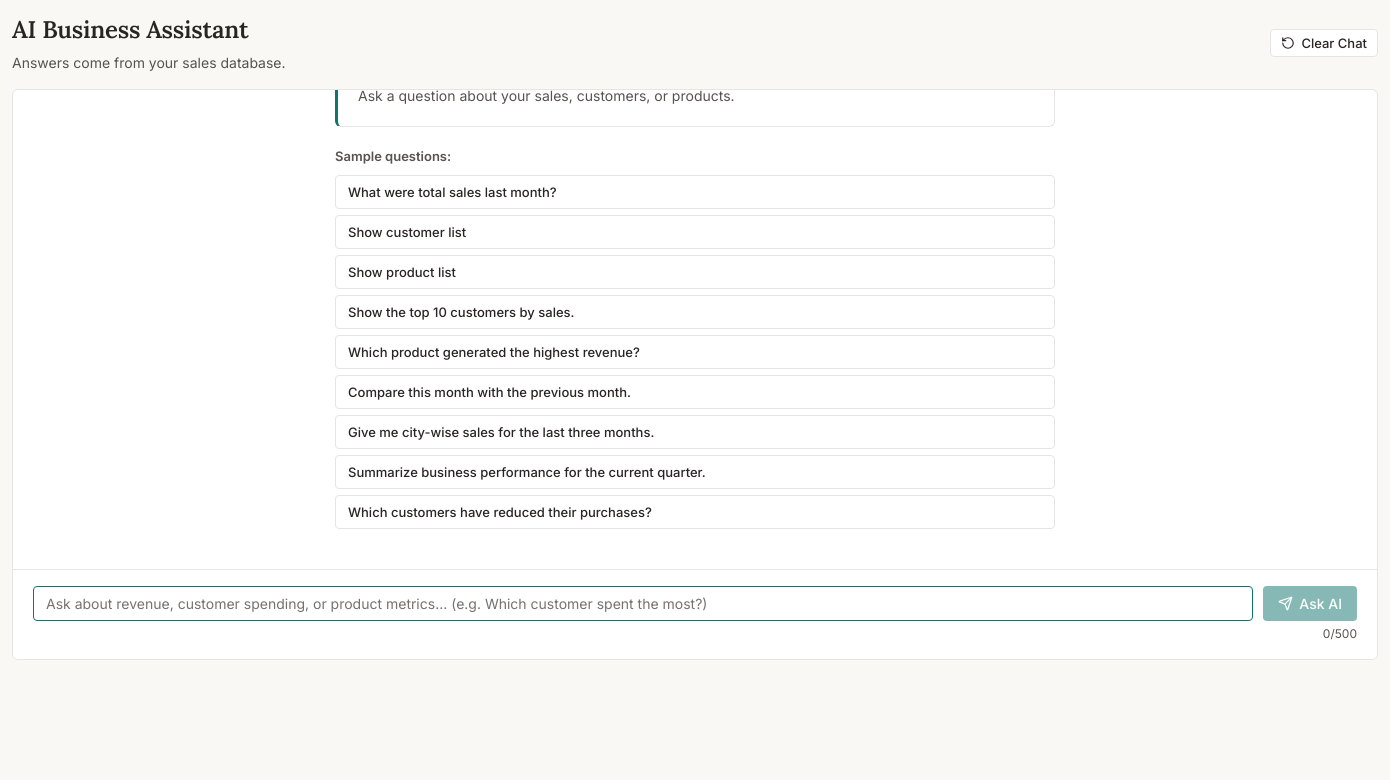
it: AIAssistant Page Component › displays clear configuration notice banner when AI is unconfigured (AI_NOT_CONFIGURED)
(page scrolled)
Replace the text in the field with placeholder "Ask about revenue" with "Summarize business performance for the current quarter.": {"x": 643, "y": 604} [33,586,1253,621]
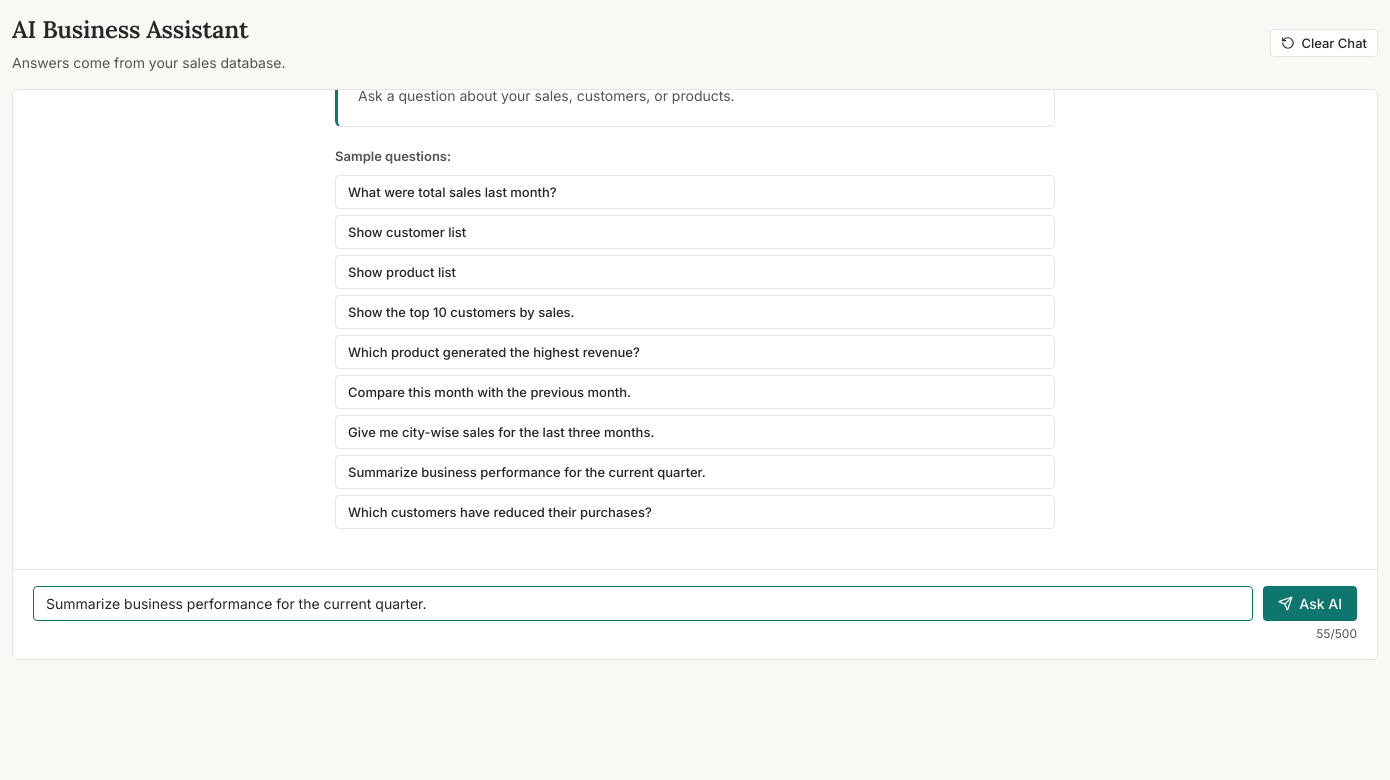
Click the button "Ask AI": {"x": 1310, "y": 604} [1263,586,1357,621]
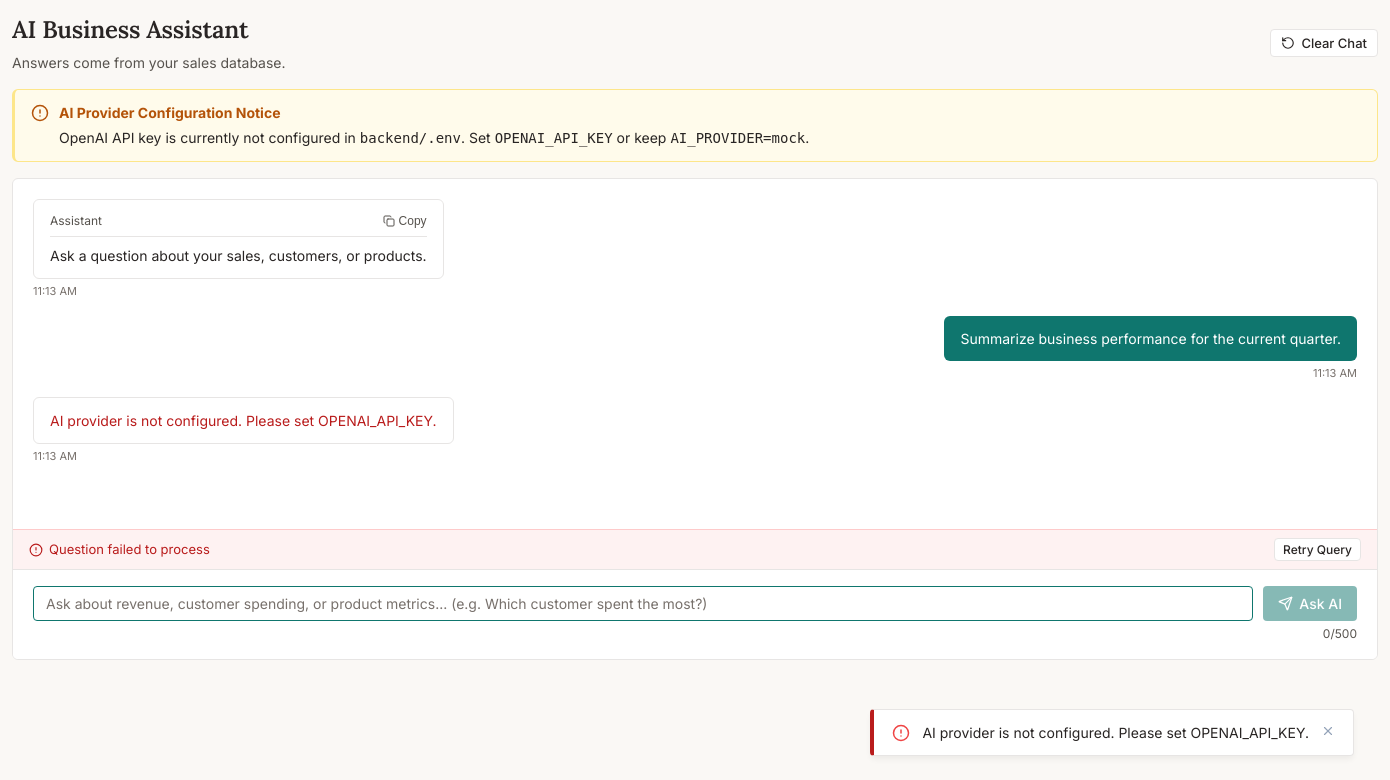
Expected: the text "AI Provider Configuration Notice" is shown, [59,104,280,121]
Expected: the text "OPENAI_API_KEY" is shown, [495,130,613,146]
Expected: the text "AI_PROVIDER=mock" is shown, [670,130,805,146]
